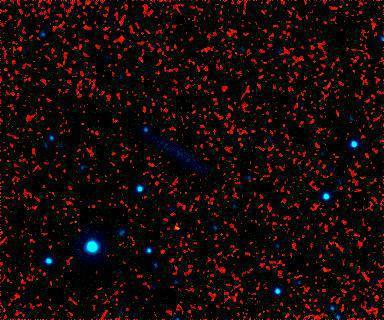star: (160, 212, 190, 242)
